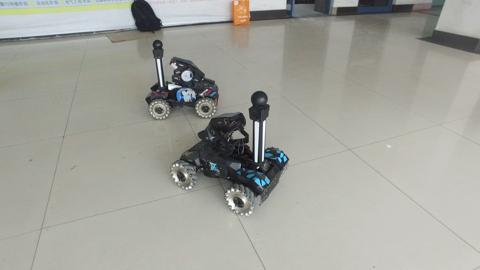chariot: (175, 94, 289, 217), (141, 38, 220, 121)
